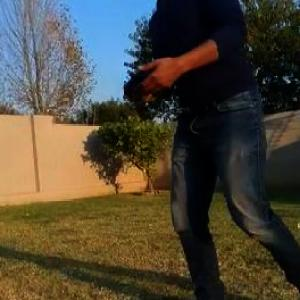follow: (120, 0, 300, 299)
